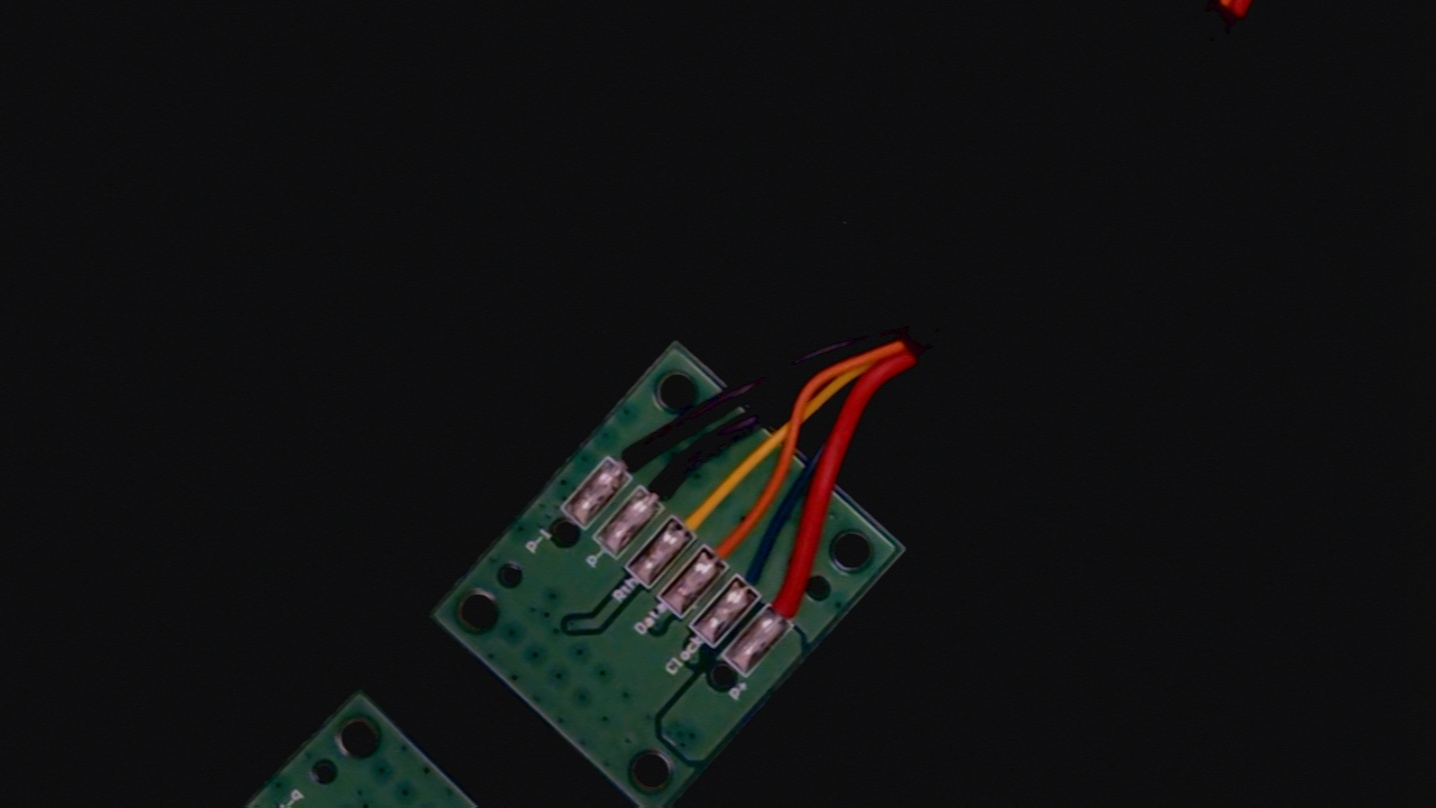Black: (629, 448, 702, 523)
Black1: (598, 417, 670, 491)
Green: (719, 538, 795, 616)
Orange: (691, 507, 765, 582)
Red: (753, 569, 826, 644)
Yellow: (660, 476, 735, 552)
